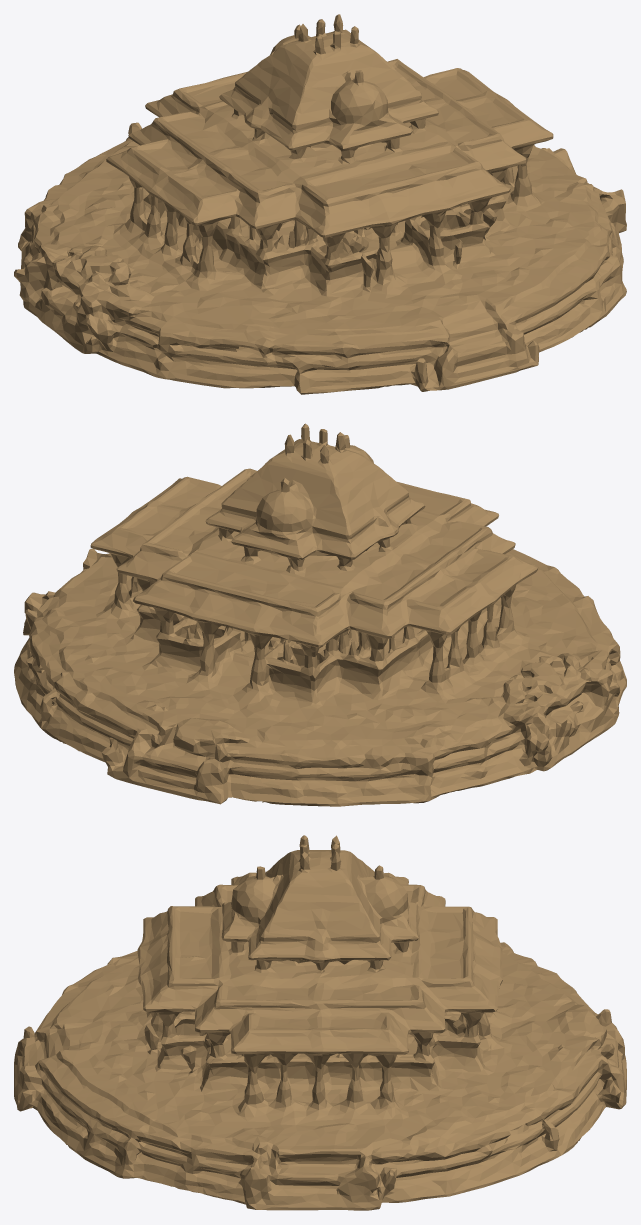
The model's file is Mahanavami Dibba.glb.
3 views of the same model, one above another, from view 1: azimuth 30°, elevation 25°; view 2: azimuth 150°, elevation 25°; view 3: azimuth 270°, elevation 25° (orthographic).
Visible parts, largest first — view 1: tmp_3y_01_p.ply; view 2: tmp_3y_01_p.ply; view 3: tmp_3y_01_p.ply.
Part boxes in pixels (bbox=[...]): tmp_3y_01_p.ply: bbox=[14, 14, 626, 394]; tmp_3y_01_p.ply: bbox=[14, 423, 626, 806]; tmp_3y_01_p.ply: bbox=[14, 835, 626, 1210].
Size of the model in its own units: 1.95 by 0.8506 by 1.95.
